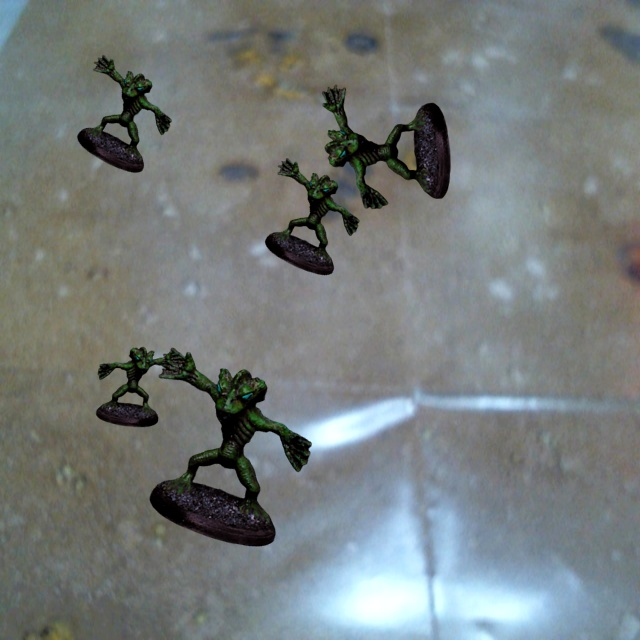pieza_juego: (150, 348, 311, 546), (322, 85, 450, 208), (77, 55, 171, 172), (265, 158, 359, 274), (96, 347, 182, 426)
